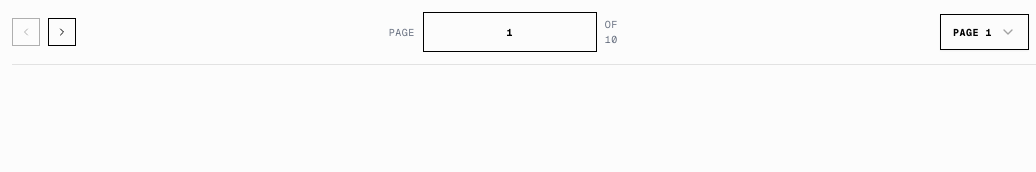
Test: PageNavigation › resets input value if invalid page number is entered
The image size is (1036, 172).
Replace the text in the field showing "1" with "99" at point(510, 32), box left=423, top=12, right=597, bottom=52
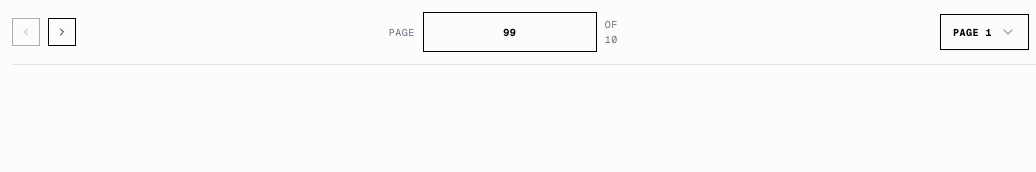
Leave the field showing "1", box left=423, top=12, right=597, bottom=52
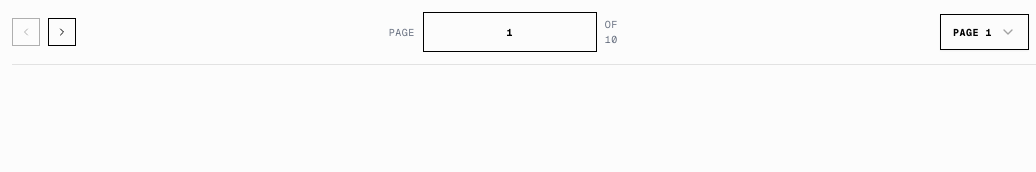
expect the field showing "1" holds "1": met, box left=423, top=12, right=597, bottom=52
